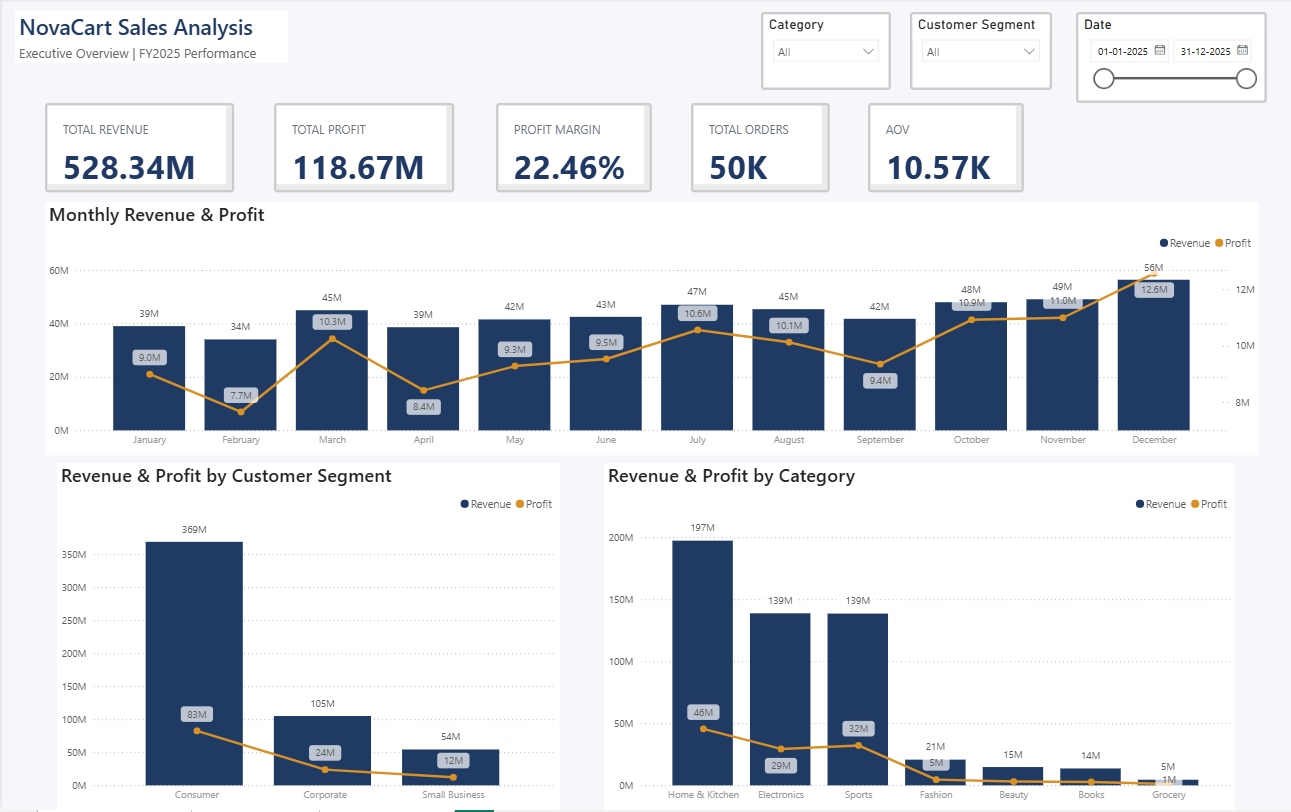

The page's visual inventory and layout, read from the dashboard file:
{"tool":"powerbi","page":{"name":"Executive Dashboard","canvas":[1600,1000],"ordinal":0},"visuals":[{"type":"cardVisual","fields":{"Data":["orders.Total Revenue"]},"box":[53,129.3,232.8,109.6],"z":0},{"type":"cardVisual","fields":{"Data":["orders.Total Profit"]},"box":[335,129.3,221.7,109.6],"z":1000},{"type":"cardVisual","fields":{"Data":["orders.Total Orders"]},"box":[848.5,129.3,171.2,109.6],"z":2000},{"type":"cardVisual","fields":{"Data":["orders.Profit Margin"]},"box":[608.4,129.3,192.1,109.6],"z":3000},{"type":"lineClusteredColumnComboChart","title":"Monthly Revenue & Profit","fields":{"Category":["orders.order_date.Variation.Date Hierarchy.Month"],"Y":["Sum(orders.revenue)"],"Y2":["Sum(orders.profit)"]},"box":[53,251.2,1495.1,311.6],"z":4000},{"type":"lineClusteredColumnComboChart","title":"Revenue & Profit by Category","fields":{"Category":["products.category"],"Y":["Sum(orders.revenue)"],"Y2":["Sum(orders.profit)"]},"box":[741.4,572.7,777.1,427.3],"z":5000},{"type":"lineClusteredColumnComboChart","title":"Revenue & Profit by Customer Segment","fields":{"Y":["Sum(orders.revenue)"],"Category":["customers.customer_segment"],"Y2":["Sum(orders.profit)"]},"box":[67.7,572.7,619.5,427.3],"z":6000},{"type":"slicer","title":"Date","fields":{"Values":["orders.order_date"]},"box":[1322.7,17.2,235.2,112.1],"z":7000},{"type":"slicer","title":"Category","fields":{"Values":["products.category"]},"box":[934.7,17.2,160.1,96.1],"z":8000},{"type":"slicer","title":"Customer Segment","fields":{"Values":["customers.customer_segment"]},"box":[1118.2,17.2,174.9,96.1],"z":9000},{"type":"textbox","title":"NovaCart Sales Analysis","box":[16,16,336,64],"z":10000},{"type":"cardVisual","fields":{"Data":["orders.AOV"]},"box":[1066.5,129.3,192.1,109.6],"z":11000}]}

Visuals, with their boxes in screenshot pixels (x1, y1, x2, y2), scaled from the page's 1600x1000 canvas onto the 1291x812 screenshot:
cardVisual - orders.Total Revenue: 43:105:231:194
cardVisual - orders.Total Profit: 270:105:449:194
cardVisual - orders.Total Orders: 685:105:823:194
cardVisual - orders.Profit Margin: 491:105:646:194
"Monthly Revenue & Profit" lineClusteredColumnComboChart: 43:204:1249:457
"Revenue & Profit by Category" lineClusteredColumnComboChart: 598:465:1225:811
"Revenue & Profit by Customer Segment" lineClusteredColumnComboChart: 55:465:554:811
"Date" slicer: 1067:14:1257:105
"Category" slicer: 754:14:883:92
"Customer Segment" slicer: 902:14:1043:92
"NovaCart Sales Analysis" textbox: 13:13:284:65
cardVisual - orders.AOV: 861:105:1016:194
